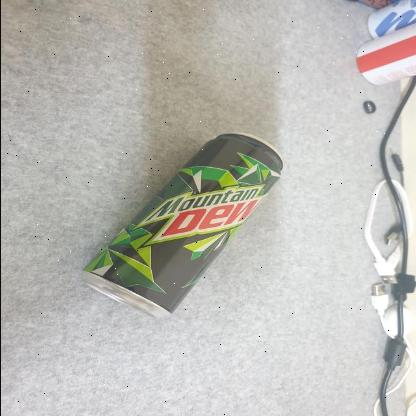Can: (82, 132, 284, 320)
